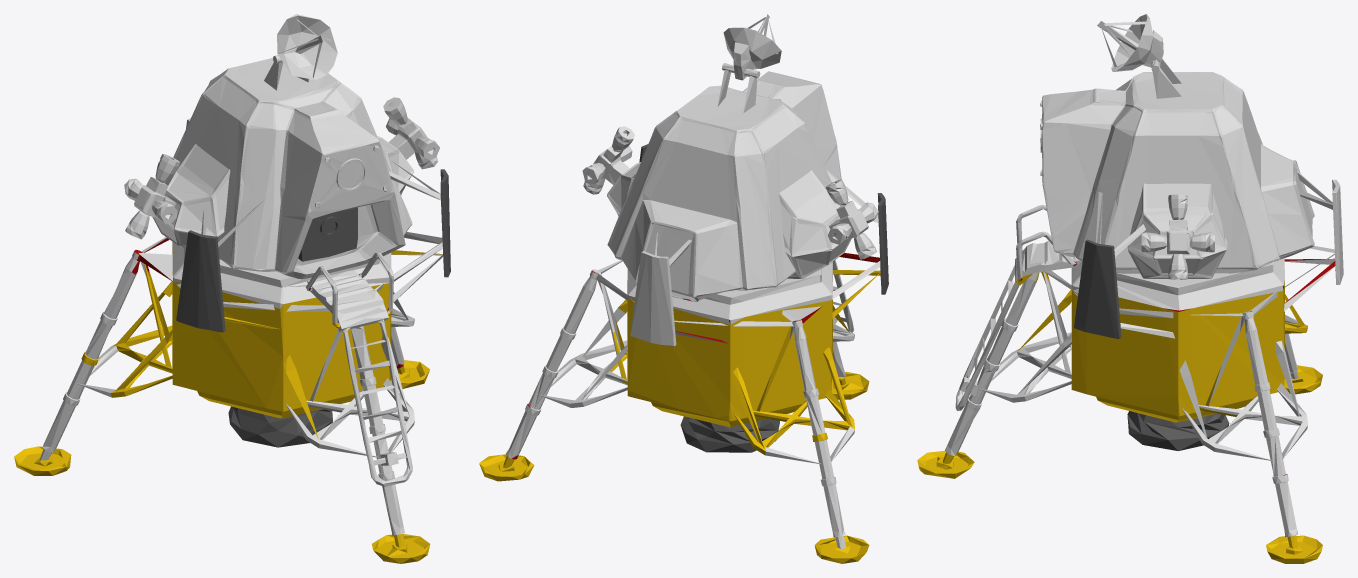
Rendered from apollo_lunar_module.fbx.
3 renders of one model, left to right at view 1: azimuth 30°, elevation 25°; view 2: azimuth 150°, elevation 25°; view 3: azimuth 270°, elevation 25°, orthographic. The views are drawn at different scales.
Parts seen in each view (by area): view 1: polySurface175, polySurface176; view 2: polySurface175, polySurface176; view 3: polySurface175, polySurface176.
Boxes of the visible parts, box(x1,y1,x2,y2) form: polySurface175: box(14, 58, 450, 563); polySurface176: box(264, 14, 337, 90); polySurface175: box(479, 71, 888, 563); polySurface176: box(717, 14, 781, 112); polySurface175: box(917, 72, 1343, 563); polySurface176: box(1097, 14, 1181, 98).
Bounding box in the file's own units: 39.79 × 43.09 × 36.99.
